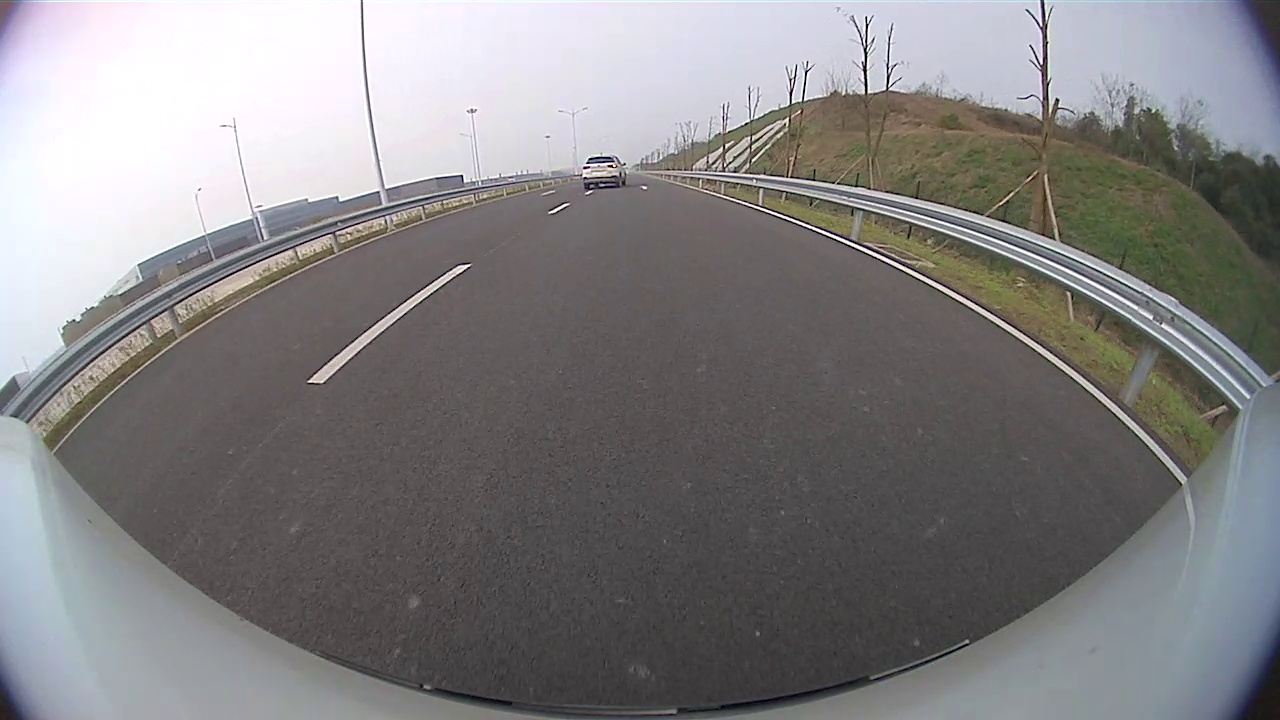car: (581, 153, 628, 191)
